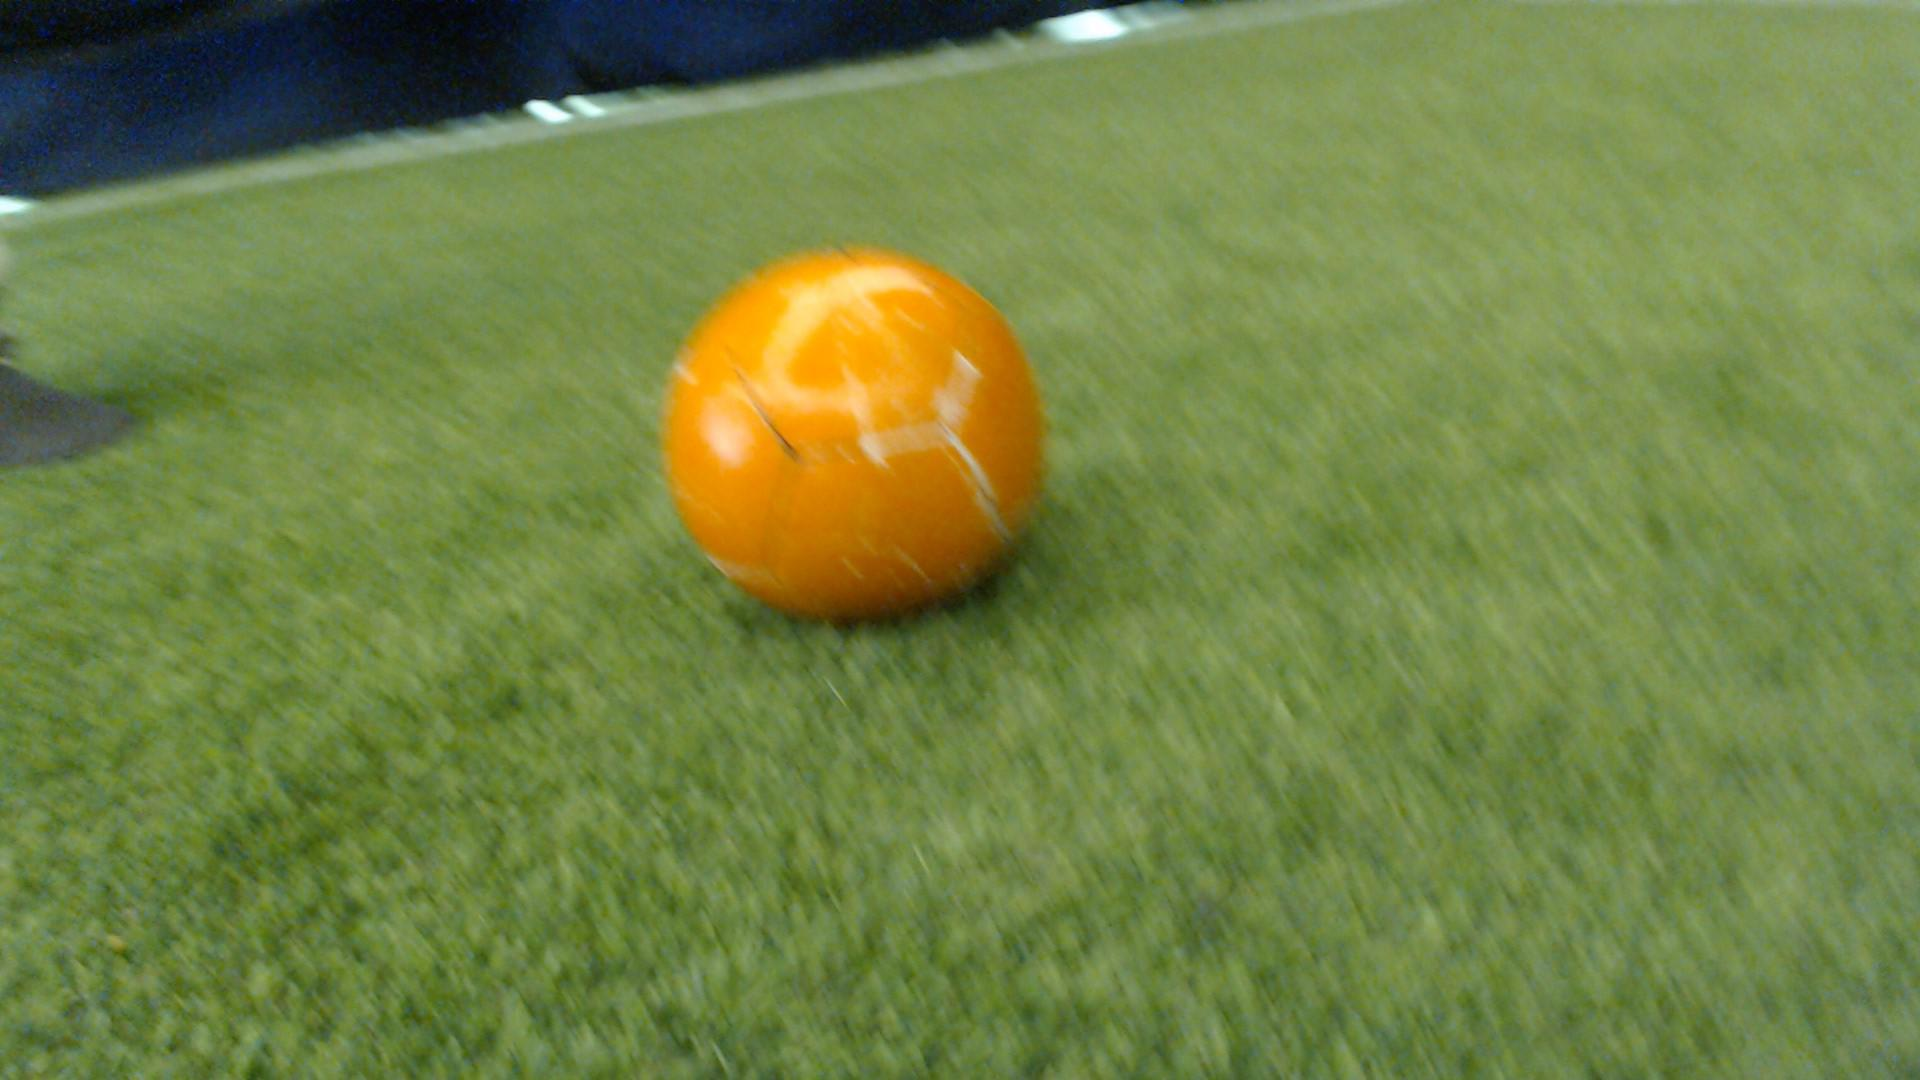bola: (628, 229, 1092, 640)
